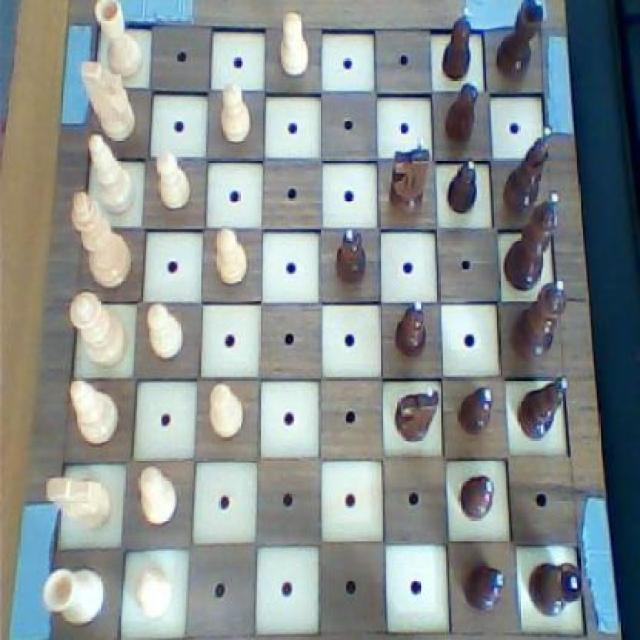bishop: (498, 123, 554, 215), (514, 374, 571, 443)
black-bishop: (499, 189, 563, 291)
black-king: (386, 132, 431, 225), (390, 378, 442, 449)
black-knight: (457, 558, 508, 620), (440, 2, 478, 82), (440, 78, 479, 151), (454, 382, 497, 444), (332, 223, 367, 291), (457, 471, 497, 525), (394, 298, 430, 358), (445, 156, 480, 214)
black-pawn: (506, 275, 570, 363)
black-queen: (492, 0, 548, 83), (526, 556, 586, 618)
black-rook: (81, 130, 137, 218), (68, 375, 124, 451)
white-bishop: (70, 188, 136, 292)
white-king: (77, 60, 140, 148), (45, 472, 117, 536)
white-knight: (137, 461, 179, 527), (144, 300, 186, 362), (130, 564, 174, 622), (277, 11, 312, 82), (154, 147, 192, 210), (217, 77, 252, 145), (212, 228, 251, 289), (208, 378, 245, 442)
white-pawn: (66, 288, 129, 370)
white-queen: (37, 562, 111, 629), (91, 0, 146, 82)
